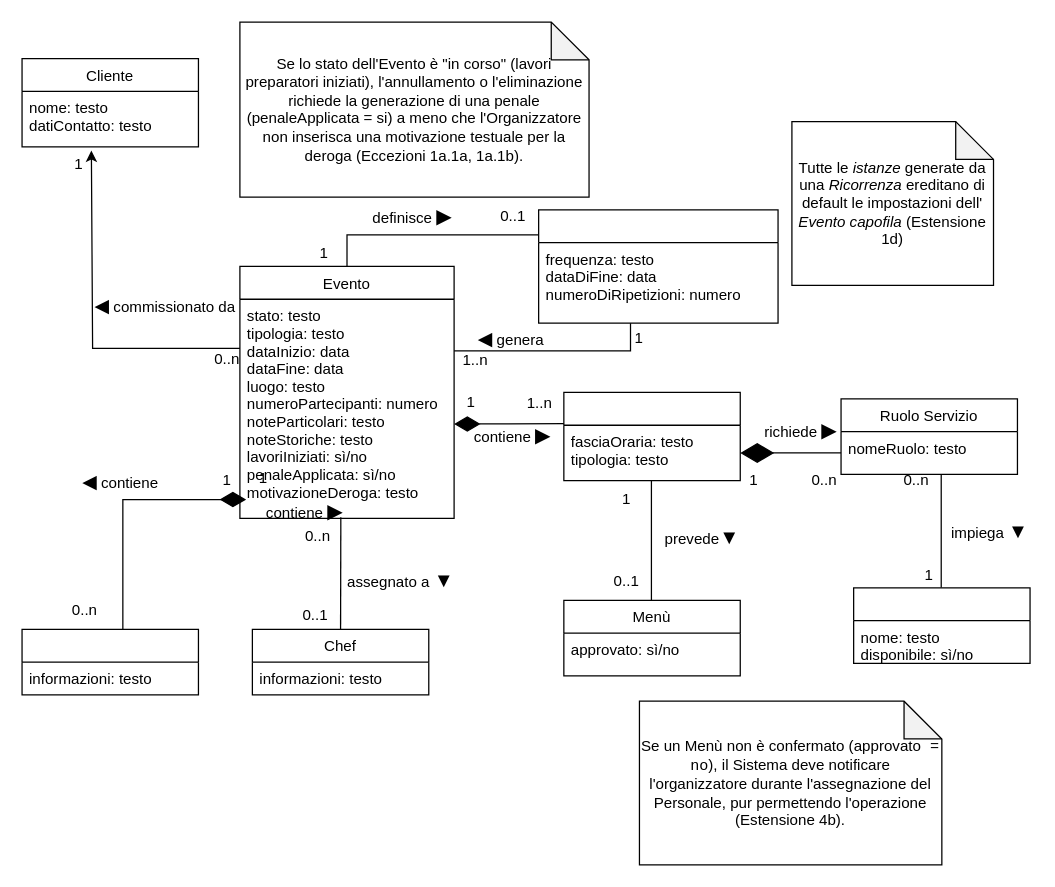
This 1055x887 diagram has some shape labels left out. Each missing label, with the box of its shape:
Documentazione: (21, 628, 198, 695)
Membro Personale: (852, 587, 1030, 663)
Ricorrenza: (537, 209, 778, 323)
Servizio: (563, 391, 740, 481)
